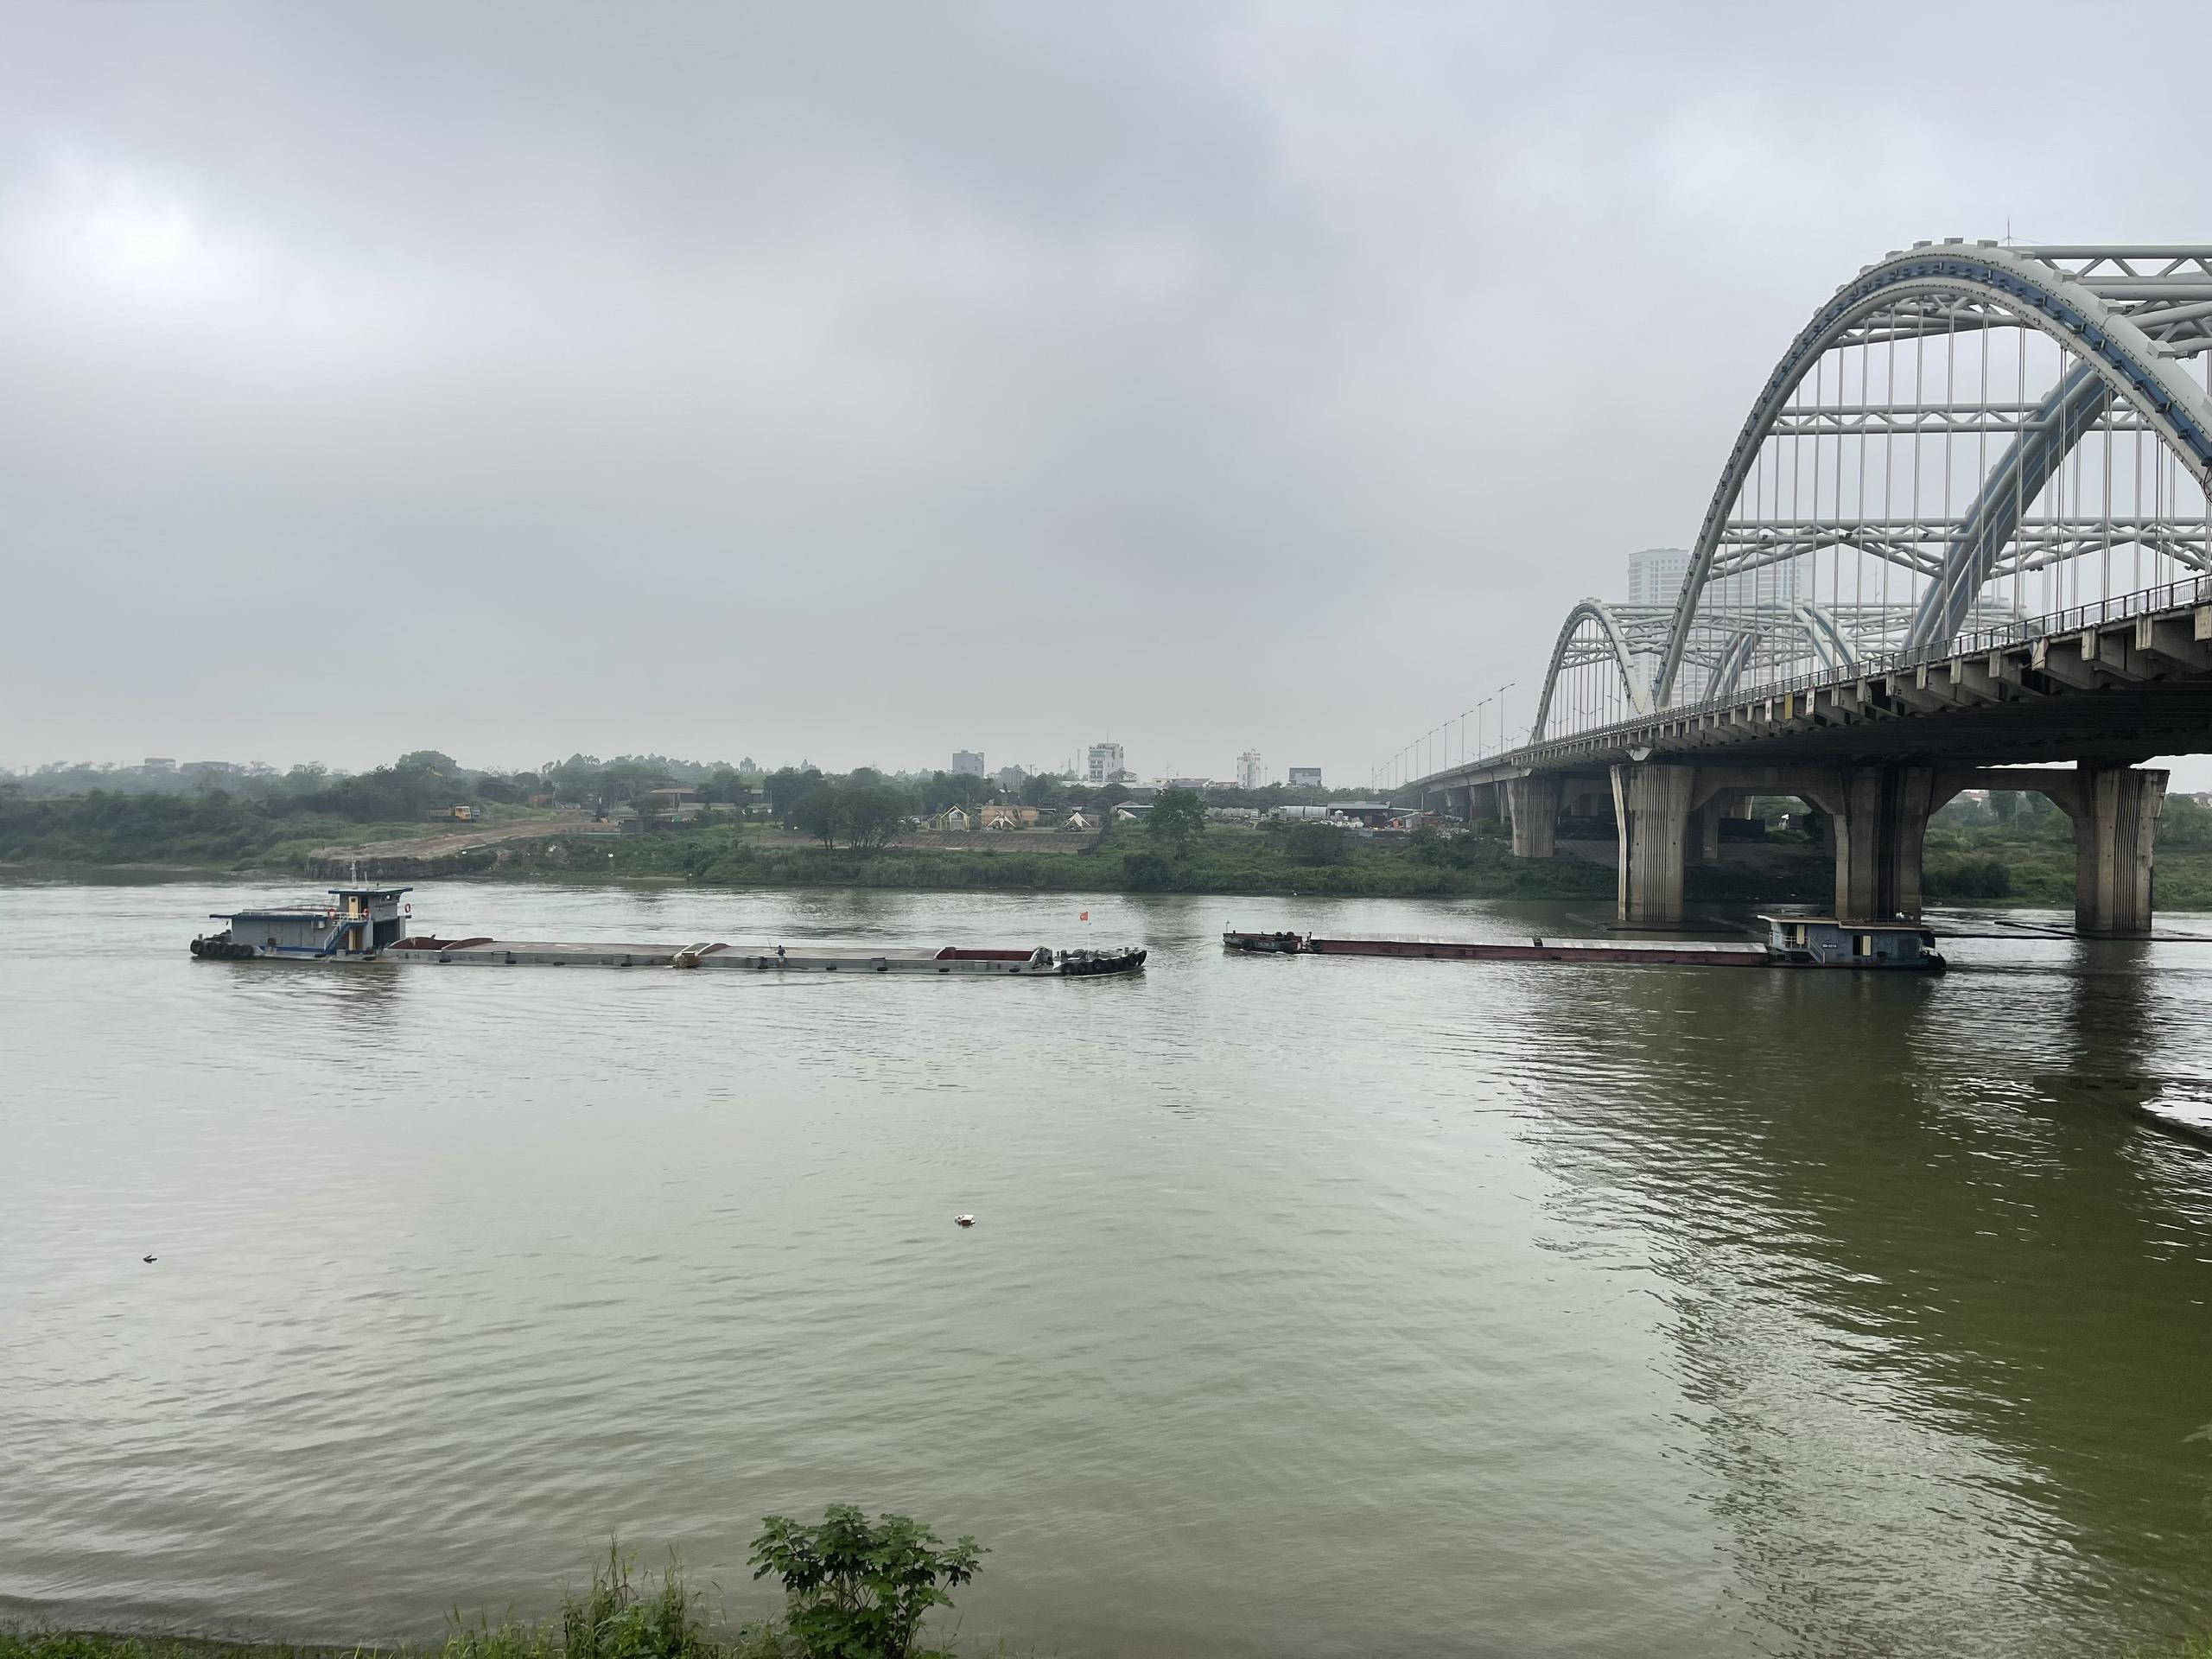Ship: (178, 880, 1150, 992), (1205, 910, 1970, 979)
